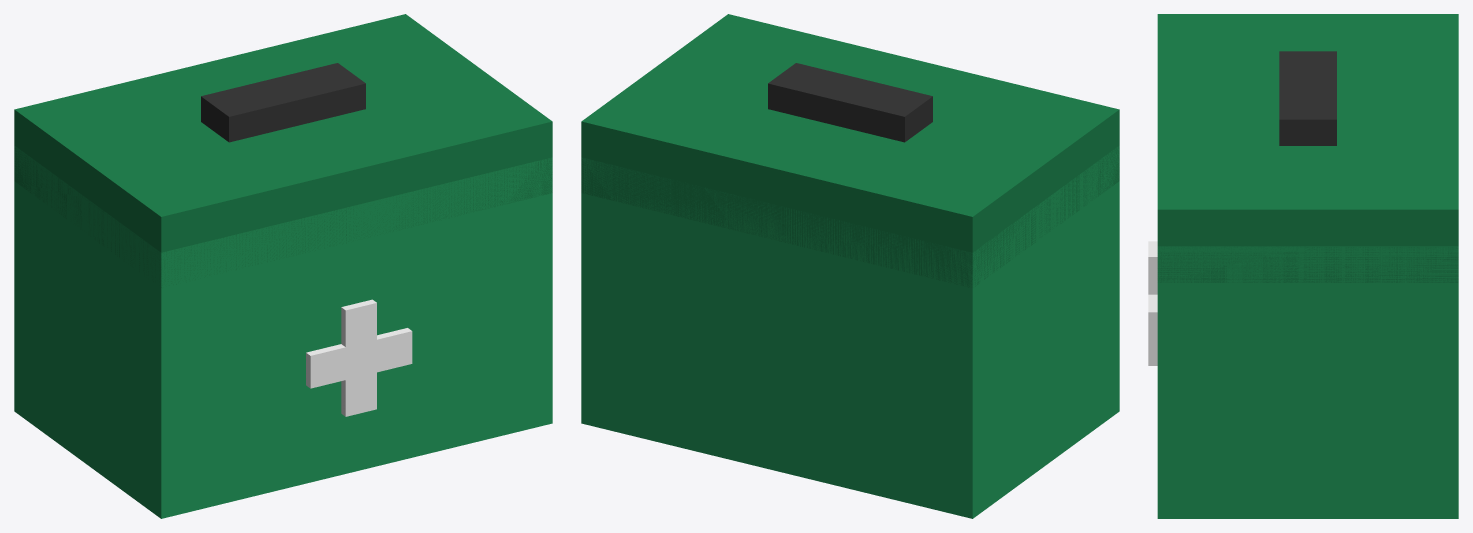
The model's file is item_firstaid.fbx.
The picture shows the model from 3 angles, left to right: view 1: azimuth 30°, elevation 25°; view 2: azimuth 150°, elevation 25°; view 3: azimuth 270°, elevation 25°; orthographic projection. The views are drawn at different scales.
Parts seen in each view (by area): view 1: M__item_firstaid; view 2: M__item_firstaid; view 3: M__item_firstaid.
Boxes of the visible parts, x1,y1,x2,y2 form: M__item_firstaid: (14, 14, 552, 518); M__item_firstaid: (581, 14, 1119, 518); M__item_firstaid: (1148, 14, 1458, 518).
Size of the model in its own units: 0.2 by 0.16 by 0.134.
